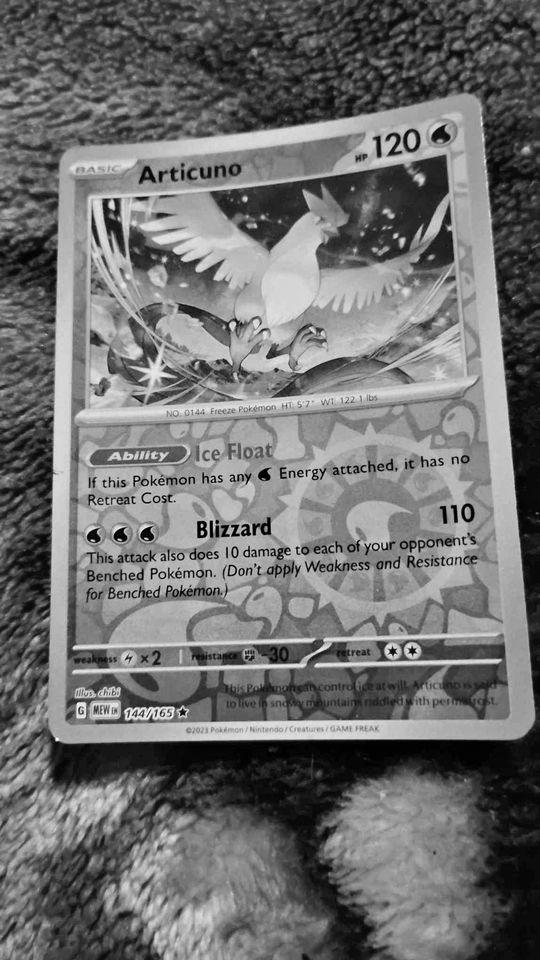card: (48, 92, 538, 748)
